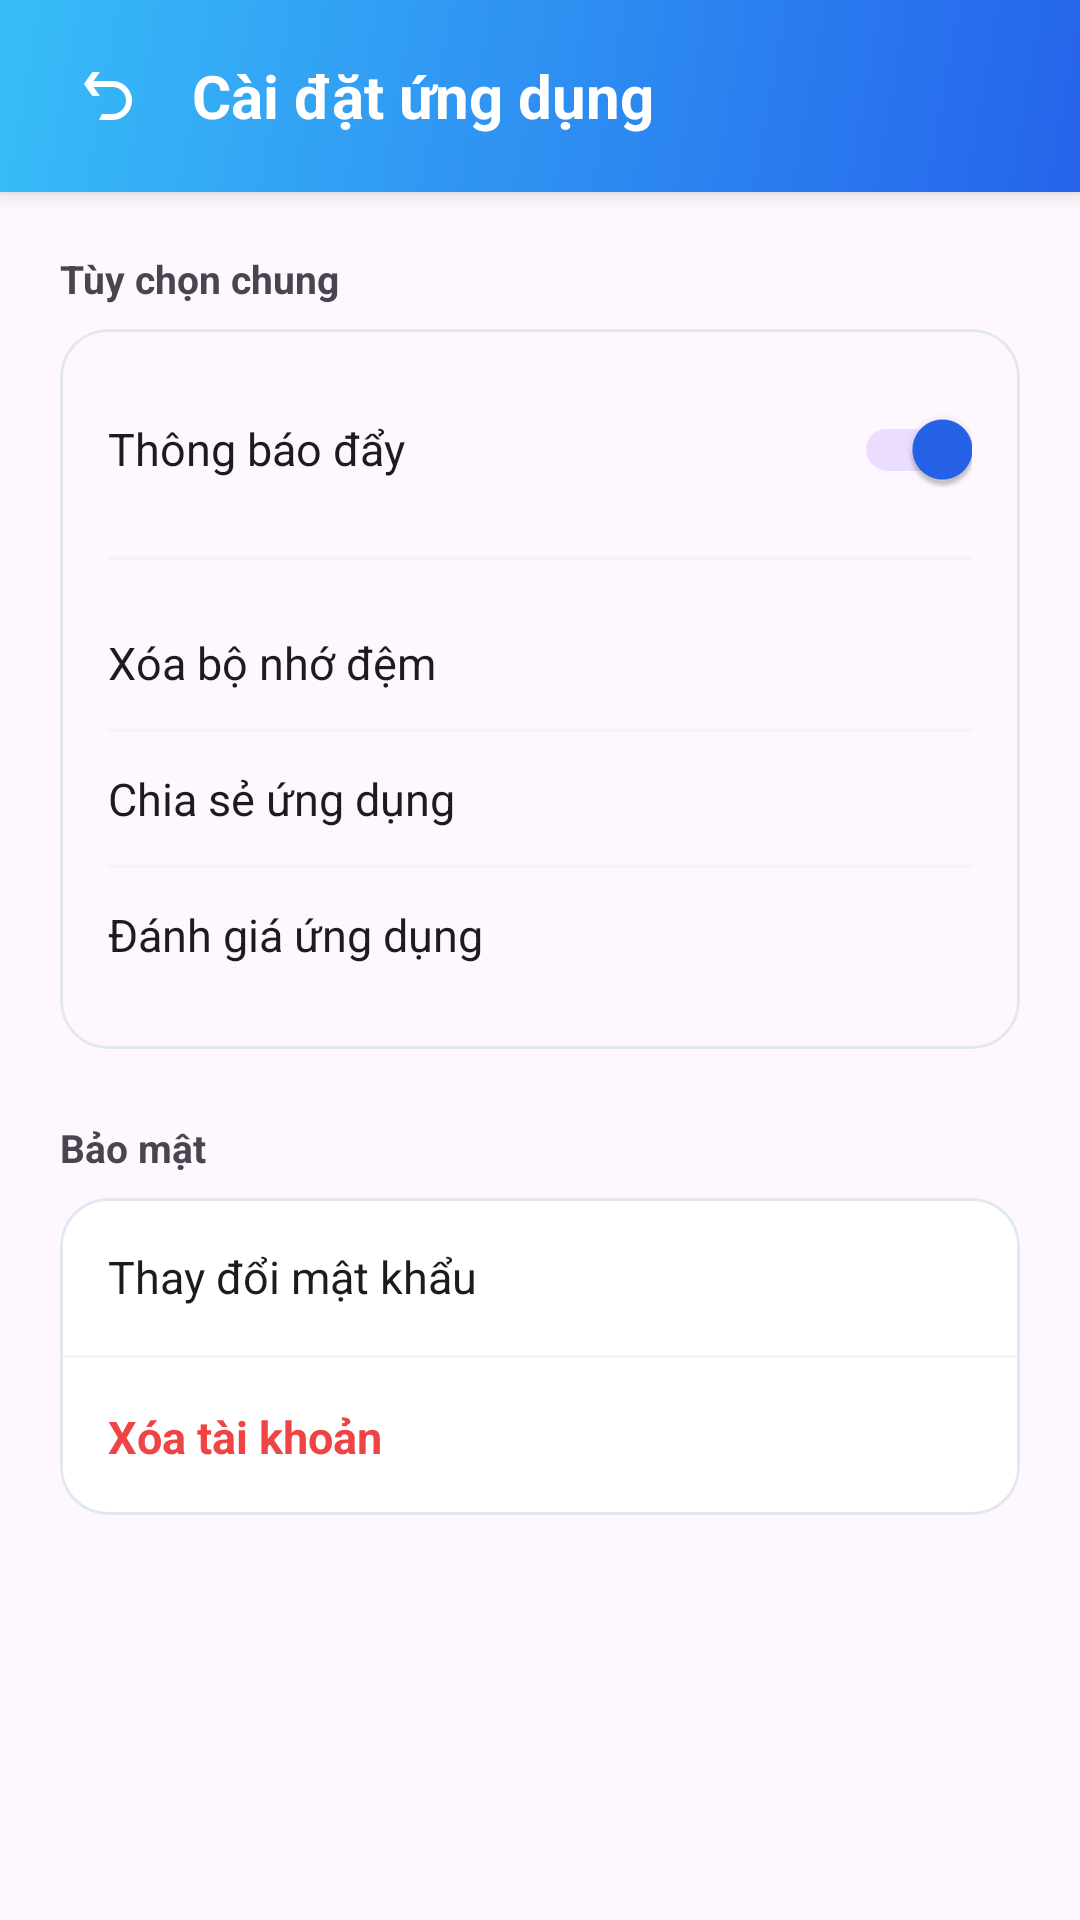

Icon click points for this 1080 × 1920 phone screenshot, format point (x, y):
back custom: point (108, 96)
